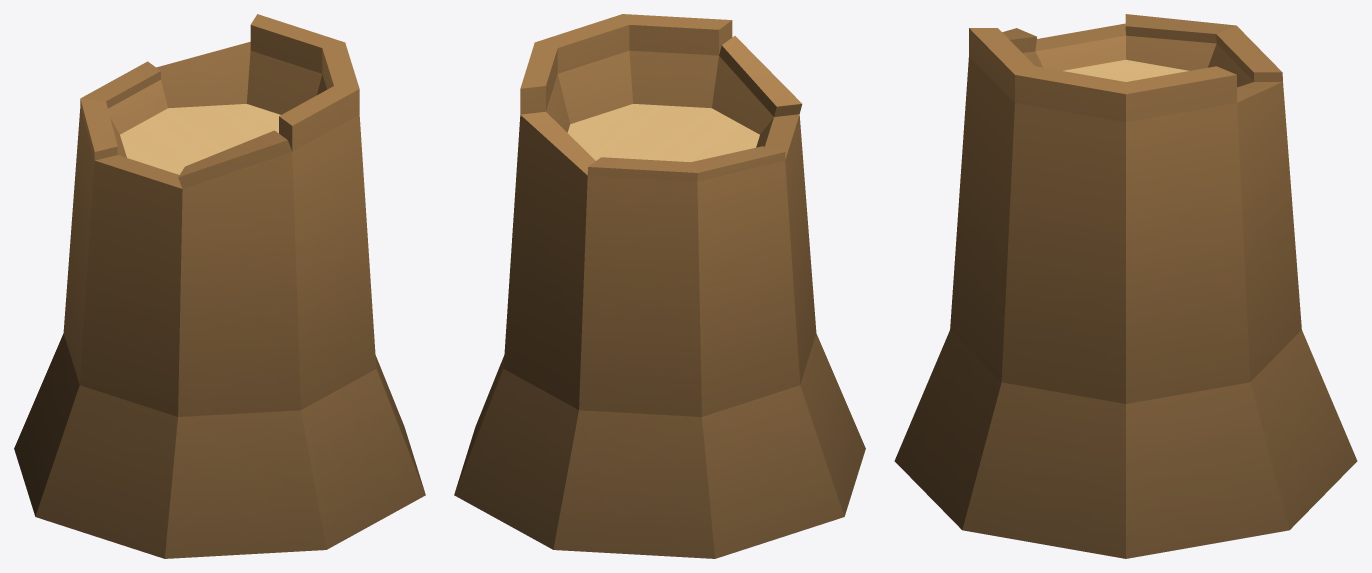
The model's file is Stump001.fbx.
3 views of the same model, side by side, from view 1: azimuth 30°, elevation 25°; view 2: azimuth 150°, elevation 25°; view 3: azimuth 270°, elevation 25° (orthographic). The views are drawn at different scales.
Parts seen in each view (by area): view 1: Cylinder.014; view 2: Cylinder.014; view 3: Cylinder.014.
Boxes of the visible parts, x1,y1,x2,y2 form: Cylinder.014: [14, 14, 425, 558]; Cylinder.014: [454, 14, 865, 558]; Cylinder.014: [894, 14, 1357, 558].
Size of the model in its own units: 95.22 by 98.3 by 95.22.
